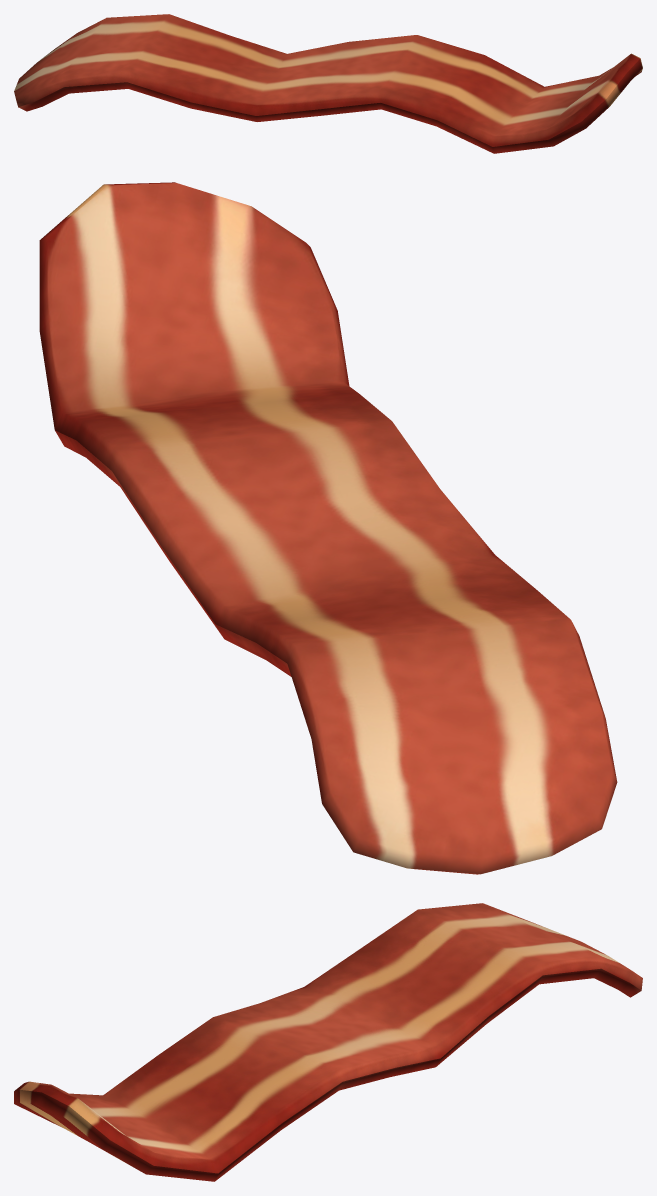
File: Bacon.fbx
3 renders of one model, top to bottom at view 1: azimuth 30°, elevation 25°; view 2: azimuth 150°, elevation 25°; view 3: azimuth 270°, elevation 25°, orthographic. The views are drawn at different scales.
Visible parts, largest first — view 1: Bacon_1; view 2: Bacon_1; view 3: Bacon_1.
Part boxes in pixels (x1=…): Bacon_1: x1=14, y1=14, x2=642, y2=153; Bacon_1: x1=39, y1=182, x2=617, y2=874; Bacon_1: x1=14, y1=903, x2=642, y2=1181.
Bounding box in the file's own units: 36.32 × 7.41 × 35.03.
Materials: 1 (1 with a texture image).
